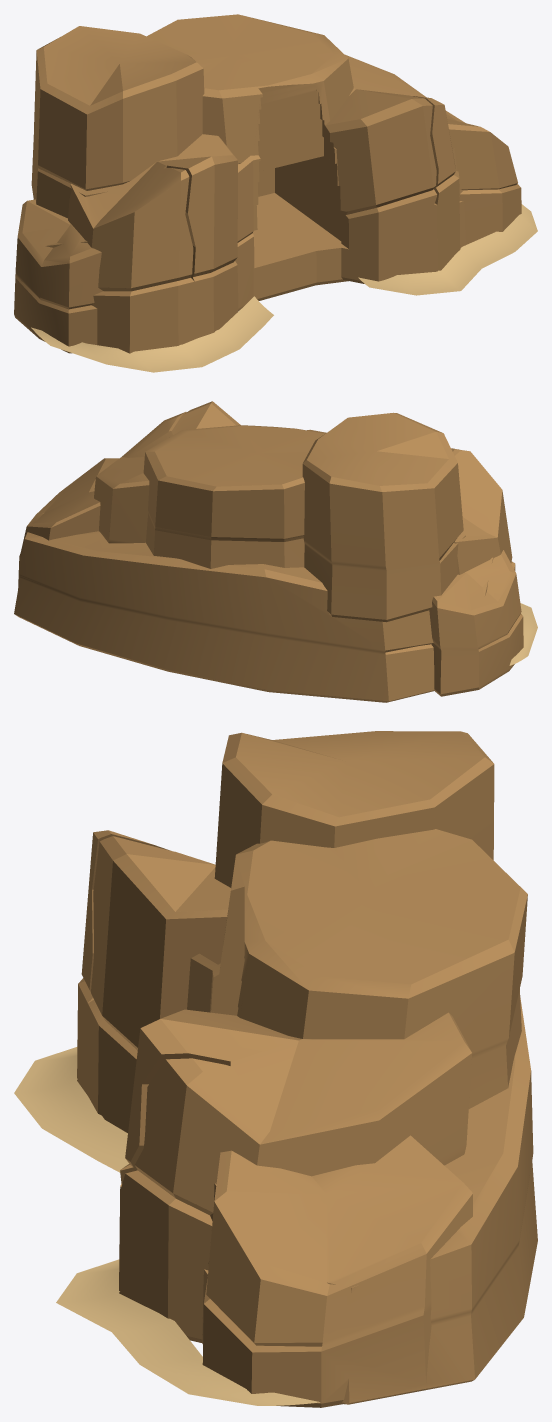
Rendered from mountain.glb.
3 views of the same model, one above another, from view 1: azimuth 30°, elevation 25°; view 2: azimuth 150°, elevation 25°; view 3: azimuth 270°, elevation 25° (orthographic). The views are drawn at different scales.
Visible parts, largest first — view 1: mountain-continuous-union, sand-foot--1, sand-foot-1; view 2: mountain-continuous-union, sand-foot--1; view 3: mountain-continuous-union, sand-foot-1, sand-foot--1.
Boxes of the visible parts, <box> form: mountain-continuous-union: <box>14,14,521,353</box>; sand-foot--1: <box>31,296,273,372</box>; sand-foot-1: <box>358,204,537,295</box>; mountain-continuous-union: <box>14,401,523,702</box>; sand-foot--1: <box>509,603,537,665</box>; mountain-continuous-union: <box>77,731,537,1407</box>; sand-foot-1: <box>56,1259,320,1405</box>; sand-foot--1: <box>14,1047,129,1172</box>.
Bounding box in the file's own units: 130 × 59.6 × 75.
